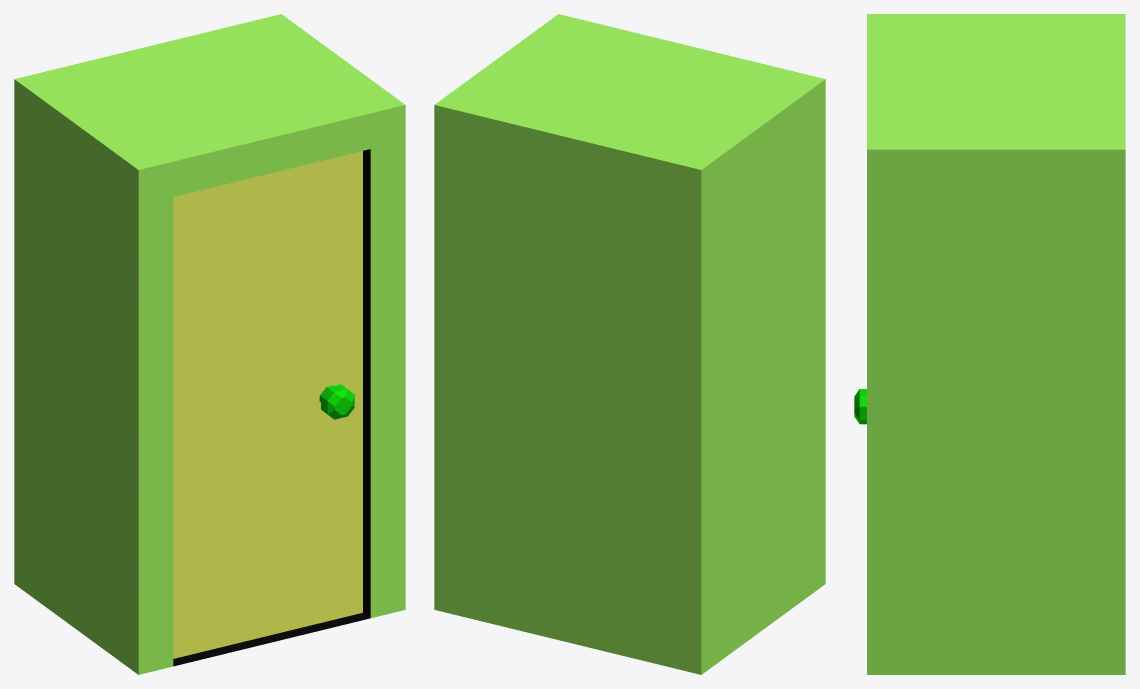
Rendered from Door.fbx.
3 views of the same model, side by side, from view 1: azimuth 30°, elevation 25°; view 2: azimuth 150°, elevation 25°; view 3: azimuth 270°, elevation 25° (orthographic). The views are drawn at different scales.
Visible parts, largest first — view 1: Doorway, Door; view 2: Doorway; view 3: Doorway, Door.
Boxes of the visible parts, x1,y1,x2,y2 form: Doorway: (14,14,405,674); Door: (173,151,362,658); Doorway: (434,14,825,674); Doorway: (867,14,1125,674); Door: (854,389,866,424).
Size of the model in its own units: 248 by 449 by 210.
